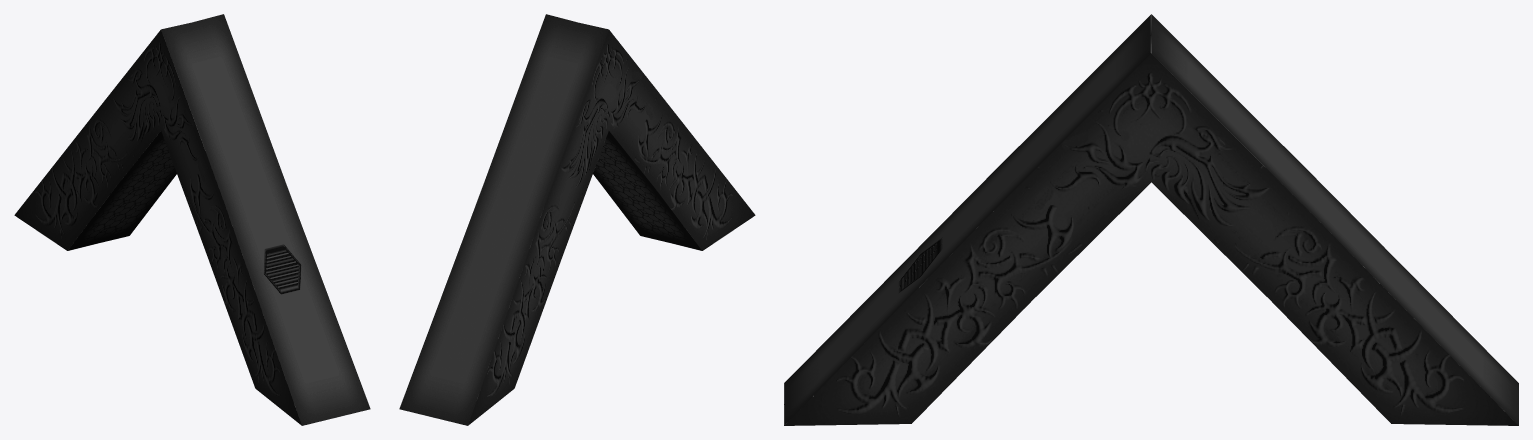
Rendered from Bracket.fbx.
The picture shows the model from 3 angles, left to right: view 1: azimuth 30°, elevation 25°; view 2: azimuth 150°, elevation 25°; view 3: azimuth 270°, elevation 25°; orthographic projection. The views are drawn at different scales.
Visible parts, largest first — view 1: Model; view 2: Model; view 3: Model.
Boxes of the visible parts, box(x1,y1,x2,y2) form: Model: box(14, 14, 370, 425); Model: box(399, 14, 755, 425); Model: box(784, 14, 1518, 425).
Size of the model in its own units: 608 by 2458 by 4413.
